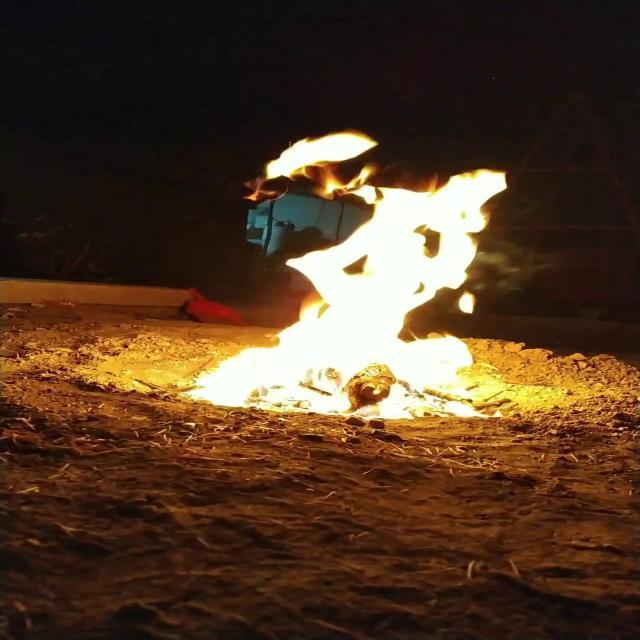Fire: (186, 121, 544, 418)
